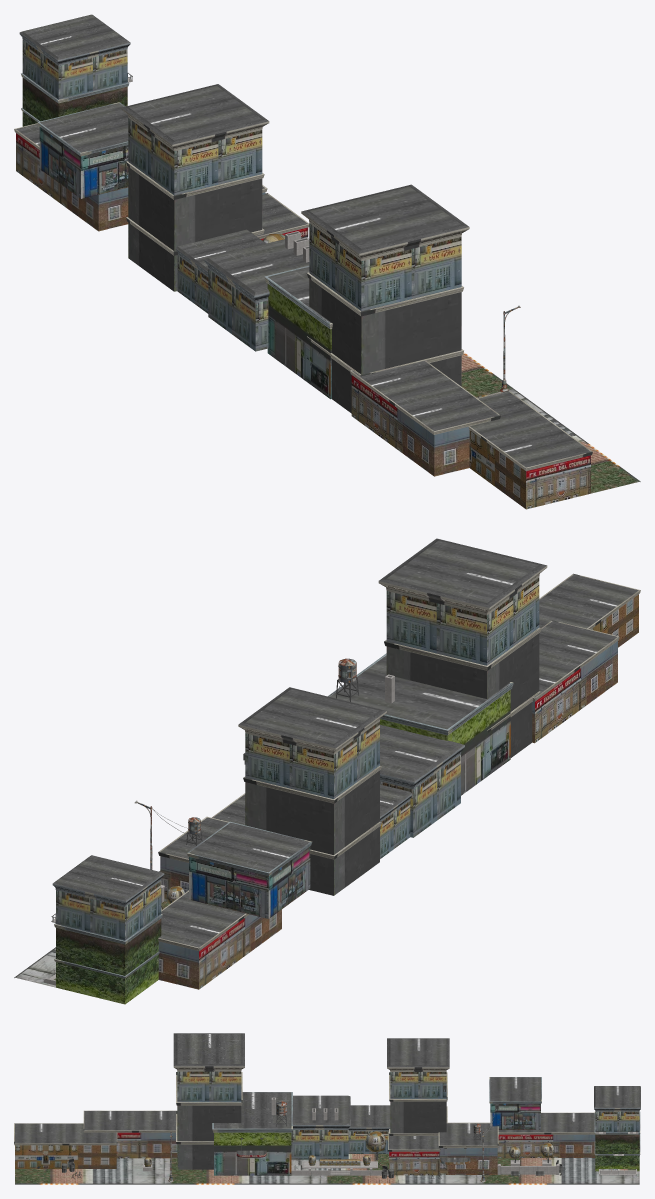
Rendered from city_block.glb.
The picture shows the model from 3 angles, top to bottom: view 1: azimuth 30°, elevation 25°; view 2: azimuth 150°, elevation 25°; view 3: azimuth 270°, elevation 25°; orthographic projection. The views are drawn at different scales.
Visible parts, largest first — view 1: comb_town_road_01; view 2: comb_town_road_01; view 3: comb_town_road_01.
Boxes of the visible parts, x1,y1,x2,y2 form: comb_town_road_01: (14, 14, 640, 509); comb_town_road_01: (14, 538, 640, 1004); comb_town_road_01: (14, 1033, 640, 1184).
Size of the model in its own units: 83.5 by 76.35 by 408.
1 material, 1 textured.
